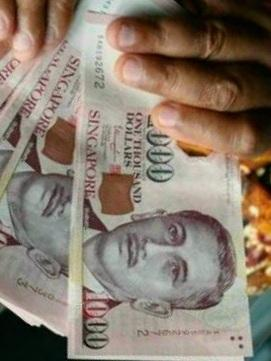1000SingaporeDollar: (85, 19, 249, 355)
